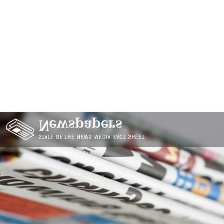news_paper: (0, 112, 223, 224)
